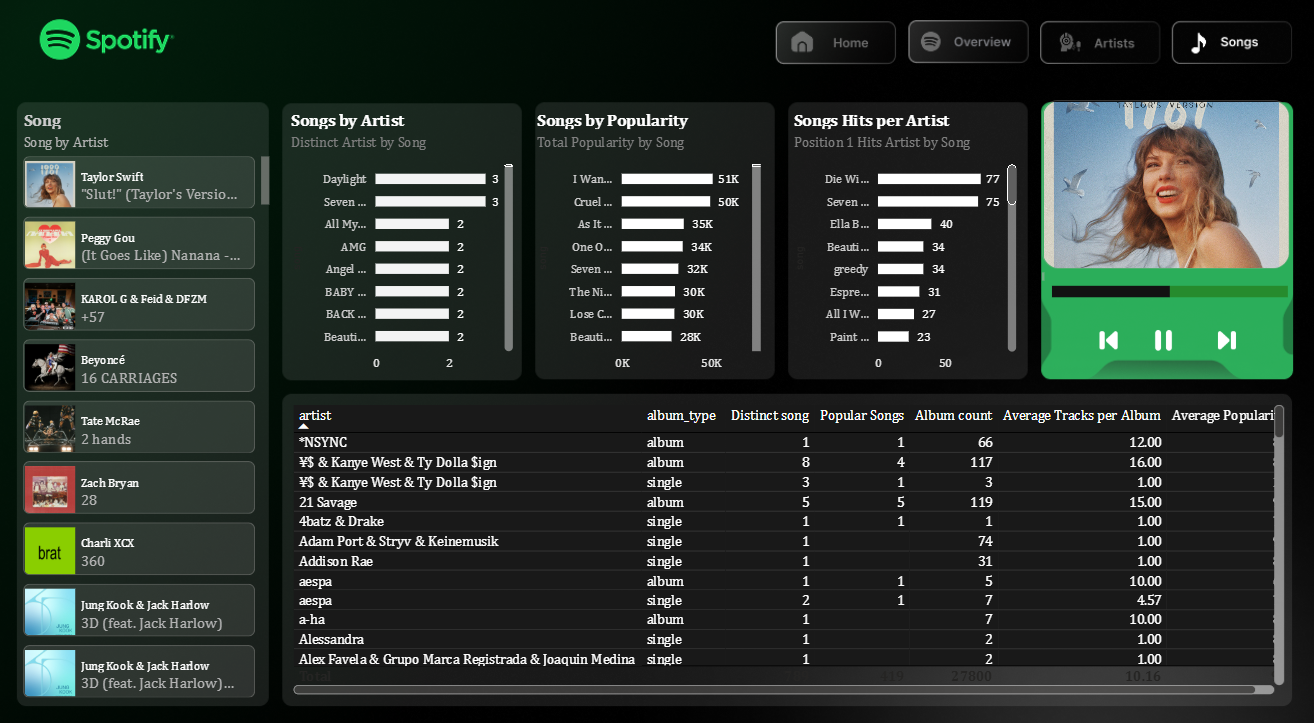

Layout of this report page (visuals, bound fields, positions):
{"tool":"powerbi","page":{"name":"Songs","canvas":[1280,720],"ordinal":3},"visuals":[{"type":"actionButton","box":[759.1,34.3,114.6,42.2],"z":0},{"type":"actionButton","box":[884.6,34.3,114.6,42.2],"z":1000},{"type":"actionButton","box":[1010,34.3,114.6,42.2],"z":2000},{"type":"actionButton","box":[1139.1,34.3,114.6,42.2],"z":3000},{"type":"advancedSlicerVisual","title":"Song ","fields":{"Values":["Top-50-World.song"]},"box":[1008.6,106.2,249.7,187],"z":3001},{"type":"hundredPercentStackedBarChart","fields":{"Y":["Measure.Average Popularity","Avg(Top-50-World.popularity)"]},"box":[1018.2,250.9,237.7,84.5],"z":3002},{"type":"image","box":[1171.4,328.6,41,30.2],"z":3003},{"type":"image","box":[1058,328.6,39.8,30.2],"z":3004},{"type":"image","box":[1111.1,328.6,39.8,30.2],"z":3005},{"type":"shape","box":[1001.3,102.5,265.4,298],"z":3006},{"type":"barChart","title":"Songs by Artist","fields":{"Category":["Top-50-World.song"],"Y":["Measure.Distinct Artist"]},"box":[283.5,120.6,224.4,259.4],"z":3007},{"type":"barChart","title":"Songs by Popularity","fields":{"Category":["Top-50-World.song"],"Y":["Sum(Top-50-World.popularity)"]},"box":[521.2,120.6,225.6,259.4],"z":3008},{"type":"advancedSlicerVisual","title":"Song ","fields":{"Values":["Top-50-World.song"]},"box":[25.3,120.6,247.3,573.1],"z":3009},{"type":"tableEx","fields":{"Values":["Top-50-World.artist","Top-50-World.album_type","Measure.Distinct song","Measure.Popular Songs","Measure.Album count","Measure.Average Tracks per Album","Measure.Average Popularity"]},"box":[285.1,401,967.2,289.1],"z":3010},{"type":"barChart","title":"Songs Hits per Artist","fields":{"Category":["Top-50-World.song"],"Y":["Measure.Position 1 Hits"]},"box":[768.7,121.2,225.1,259.8],"z":3011}]}

Visuals, with their boxes in screenshot pixels (x1, y1, x2, y2), scaled from the page's 1280x720 canvas onto the 1314x723 screenshot:
actionButton: box=[779, 34, 897, 77]
actionButton: box=[908, 34, 1026, 77]
actionButton: box=[1037, 34, 1154, 77]
actionButton: box=[1169, 34, 1287, 77]
"Song " advancedSlicerVisual: box=[1035, 107, 1292, 294]
hundredPercentStackedBarChart - Measure.Average Popularity x Avg(Top-50-World.popularity): box=[1045, 252, 1289, 337]
image: box=[1203, 330, 1245, 360]
image: box=[1086, 330, 1127, 360]
image: box=[1141, 330, 1181, 360]
shape: box=[1028, 103, 1300, 402]
"Songs by Artist" barChart: box=[291, 121, 521, 382]
"Songs by Popularity" barChart: box=[535, 121, 767, 382]
"Song " advancedSlicerVisual: box=[26, 121, 280, 697]
tableEx - Top-50-World.artist x Top-50-World.album_type: box=[293, 403, 1286, 693]
"Songs Hits per Artist" barChart: box=[789, 122, 1020, 383]
